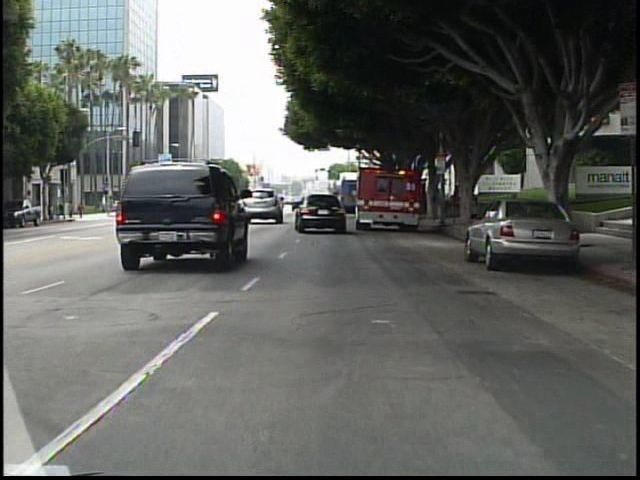person: (450, 187, 463, 222), (76, 198, 88, 222), (66, 198, 78, 222)
